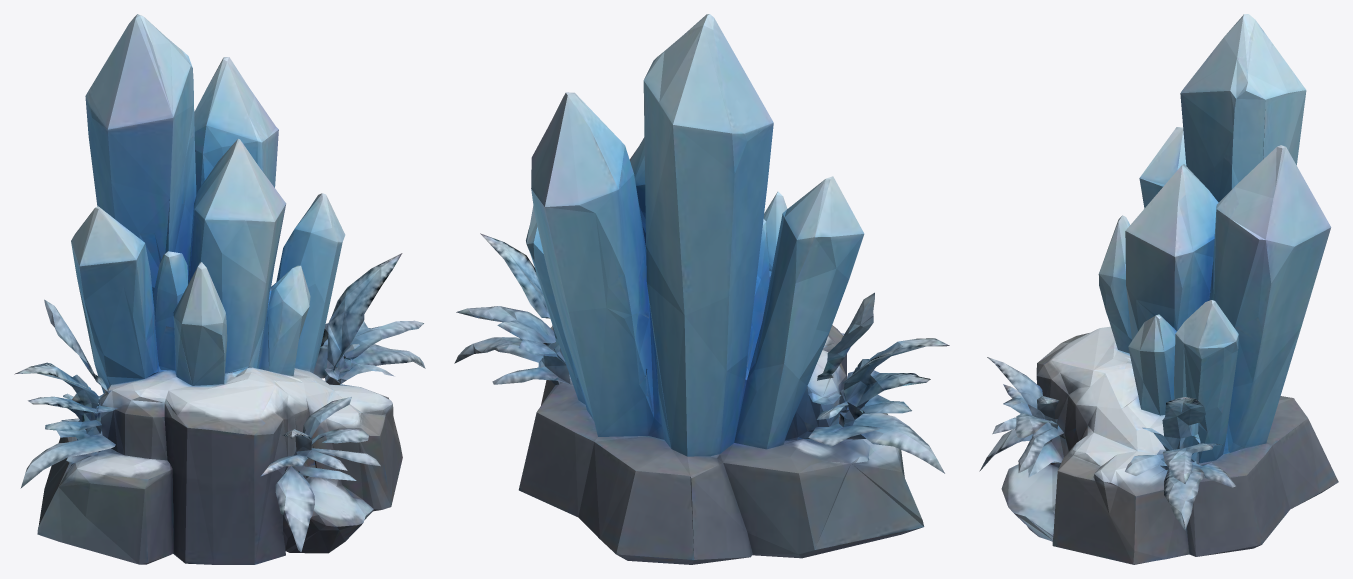
Rendered from d_givre_cristaux.glb.
3 views of the same model, side by side, from view 1: azimuth 30°, elevation 25°; view 2: azimuth 150°, elevation 25°; view 3: azimuth 270°, elevation 25° (orthographic). The views are drawn at different scales.
Parts seen in each view (by area): view 1: geometry_0; view 2: geometry_0; view 3: geometry_0.
Boxes of the visible parts, x1,y1,x2,y2 form: geometry_0: [14, 14, 425, 564]; geometry_0: [454, 14, 949, 564]; geometry_0: [979, 14, 1338, 564].
Size of the model in its own units: 0.931 by 1 by 0.6845.
1 material, 1 textured.
